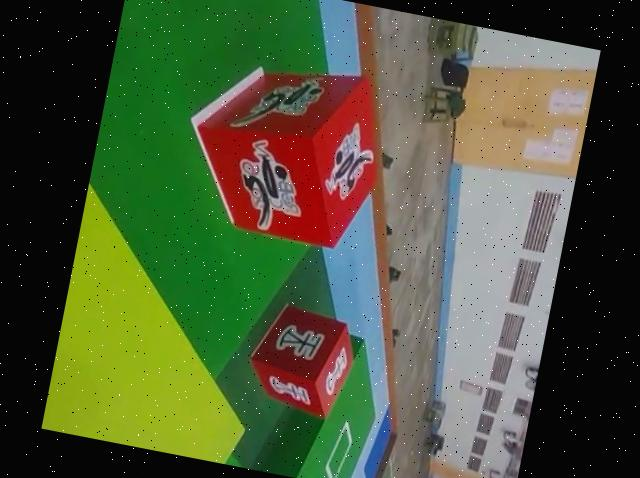R1: (173, 44, 399, 261)
R2 Real: (236, 297, 364, 418)
